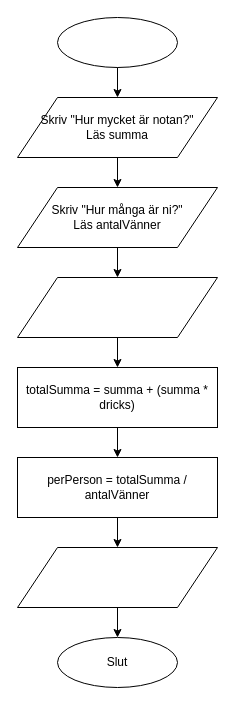
The diagram is 235 pixels wide and 705 high, and some of its shapes have lost their labels. The shapes that lost their labels are listed below. From the top down, each one's centre as x and y in pixels, then its label:
[117,42]: Start
[117,307]: Skriv "Hur mycket dricks?" Läs dricks
[117,577]: Skriv "Varje person betalar: " + perPerson
